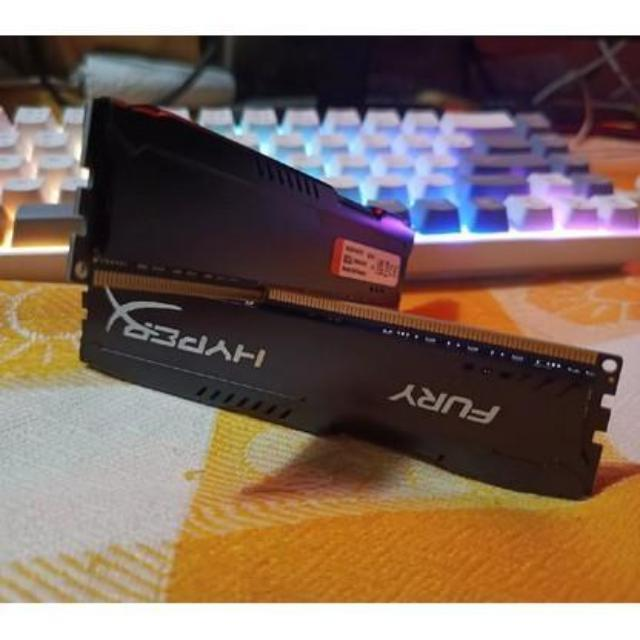RAM: (65, 98, 633, 500)
